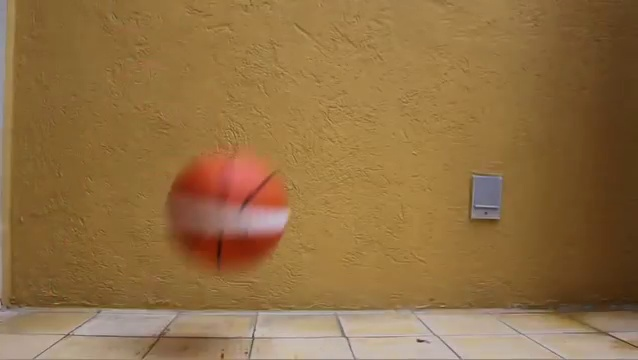ball: (164, 148, 290, 274)
